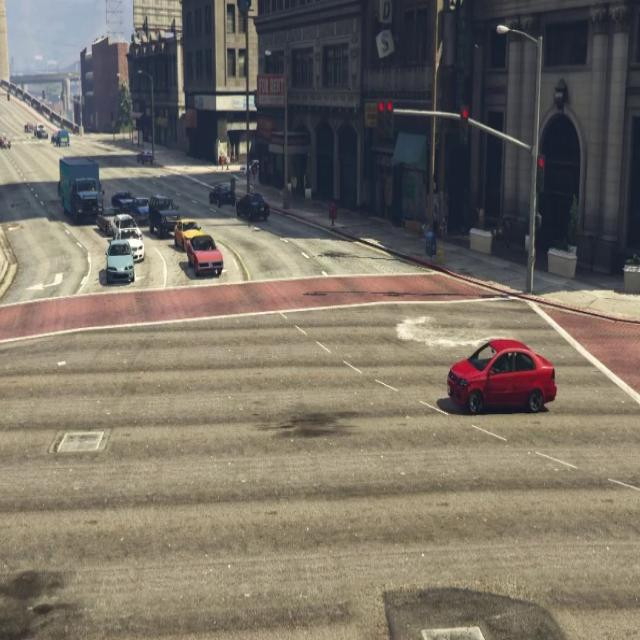Red-Signal: (372, 87, 398, 145), (457, 98, 473, 158), (534, 142, 549, 200)
